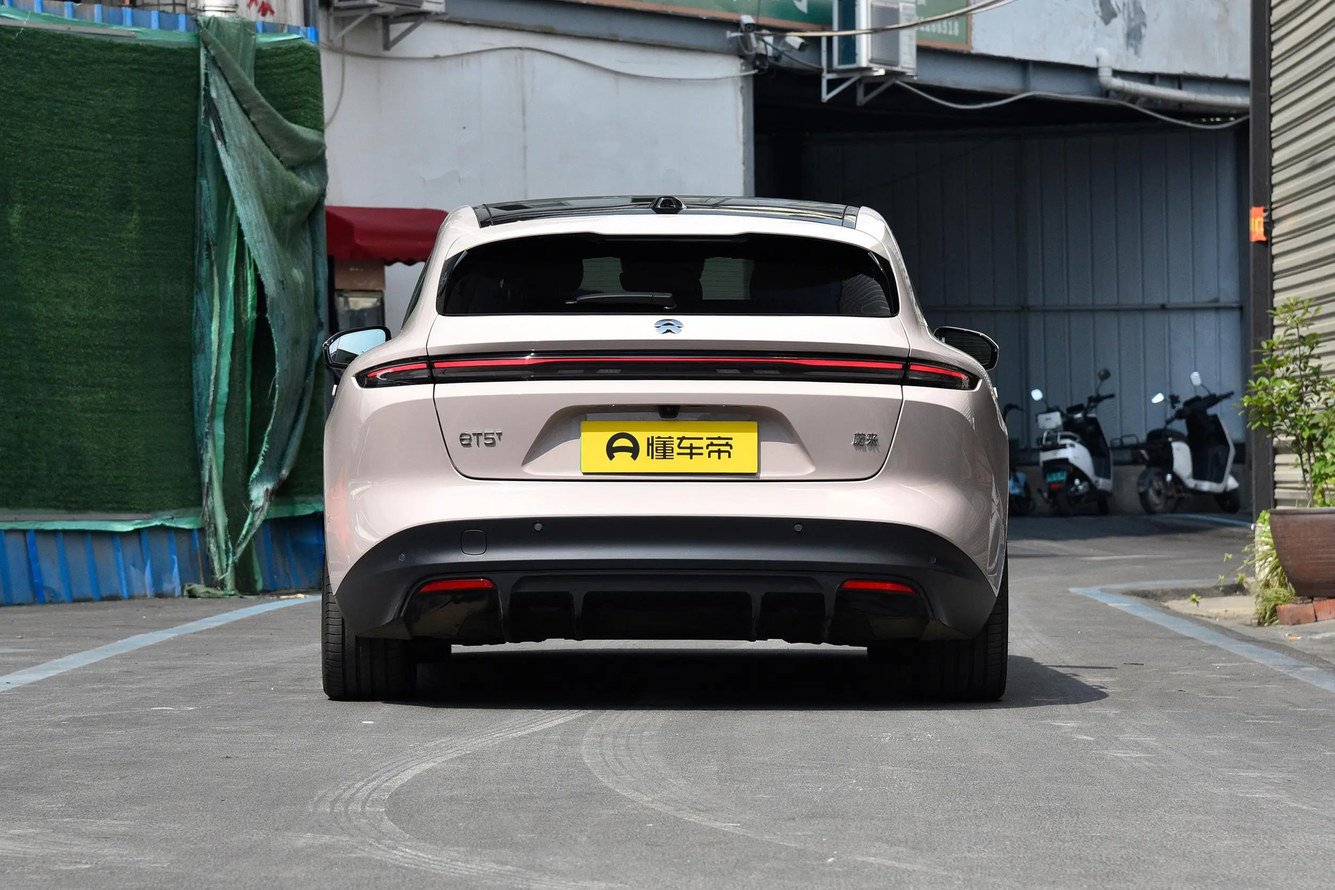NIO: (654, 318, 683, 335)
